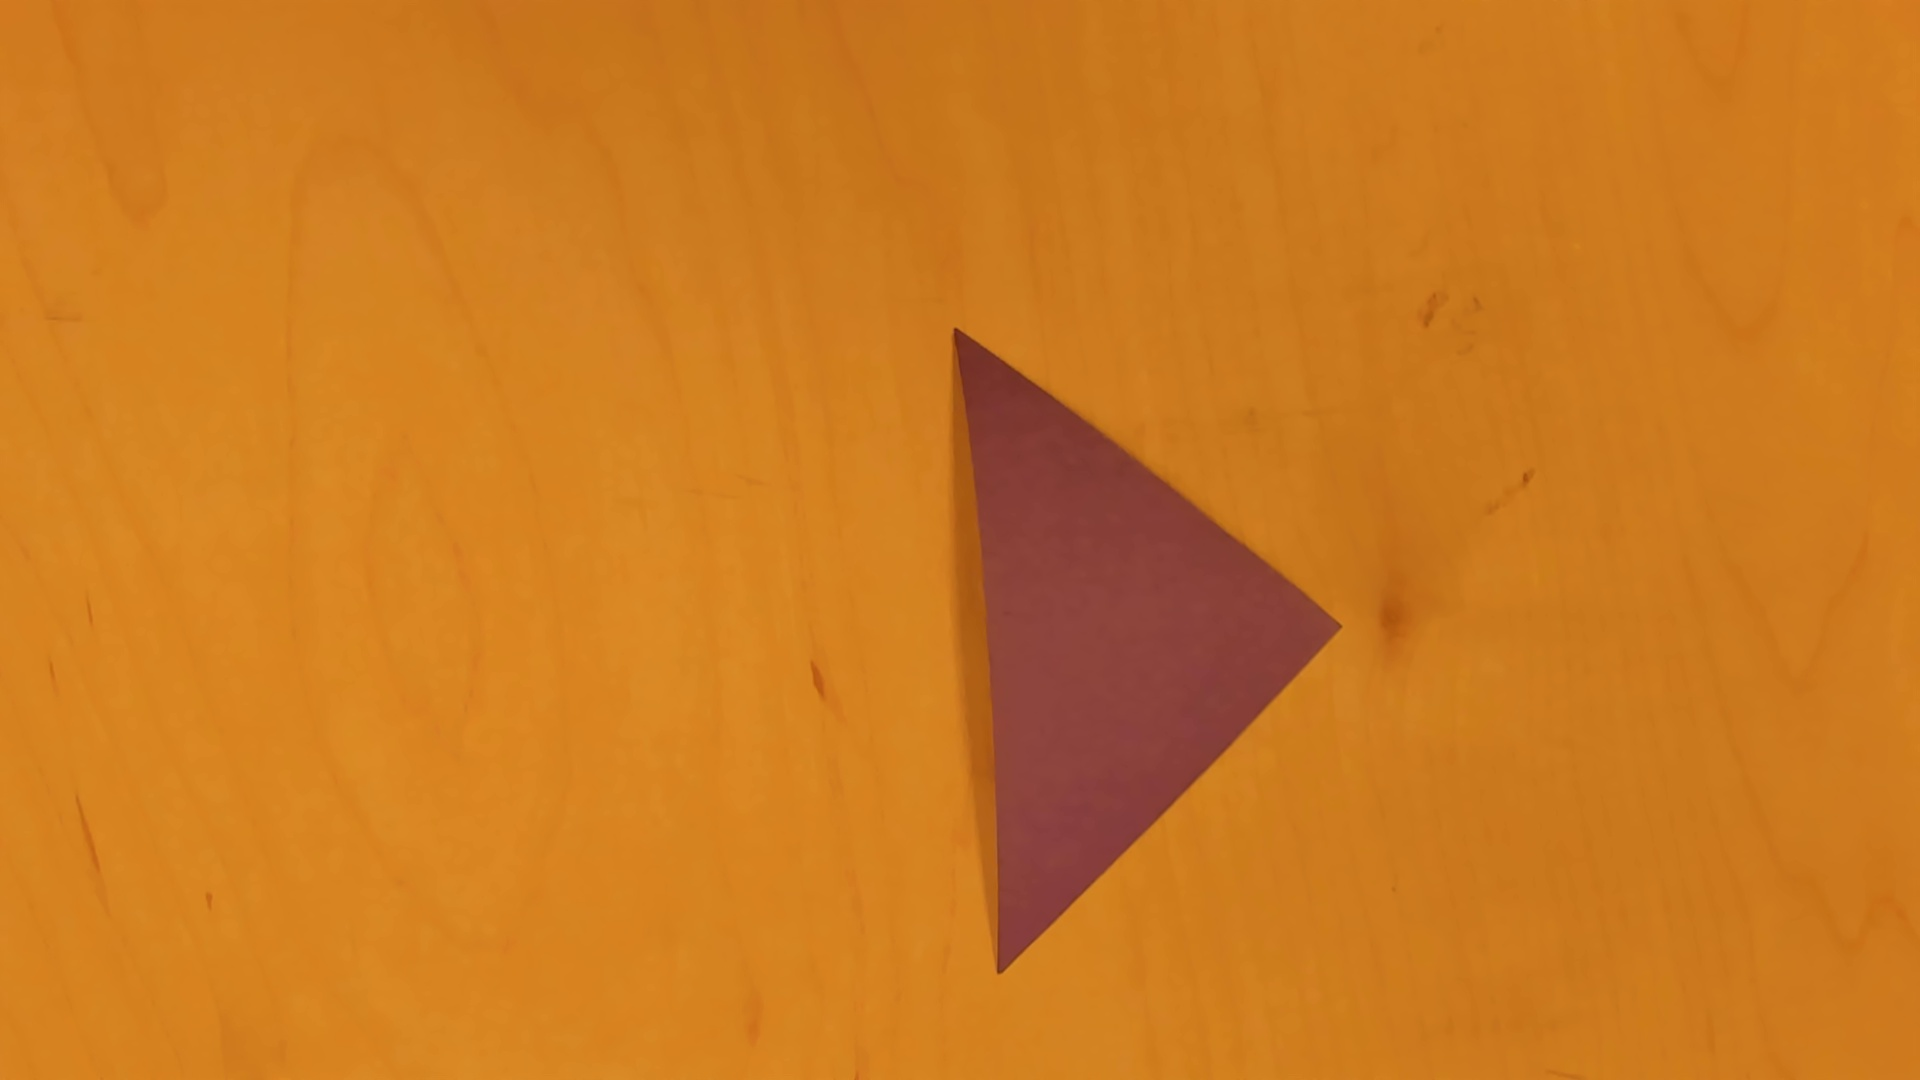PT: (949, 323, 1346, 978)
